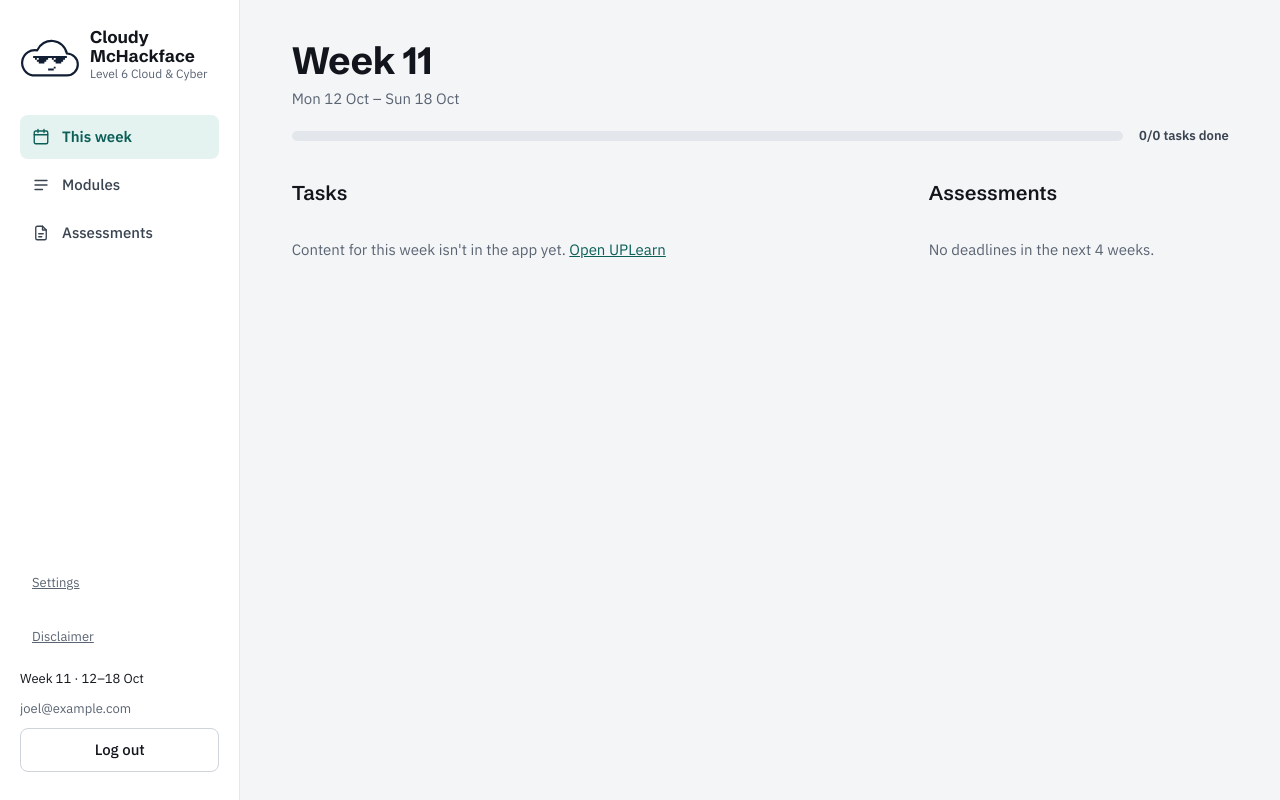
Test case: DisclaimerPage › can be re-read from the sidebar after accepting
This screenshot has width=1280, height=800.
What coordinates should you click on to do the following:
click the link "Disclaimer"
I would click on:
 (63, 637)
Its box is [32,628,94,645].
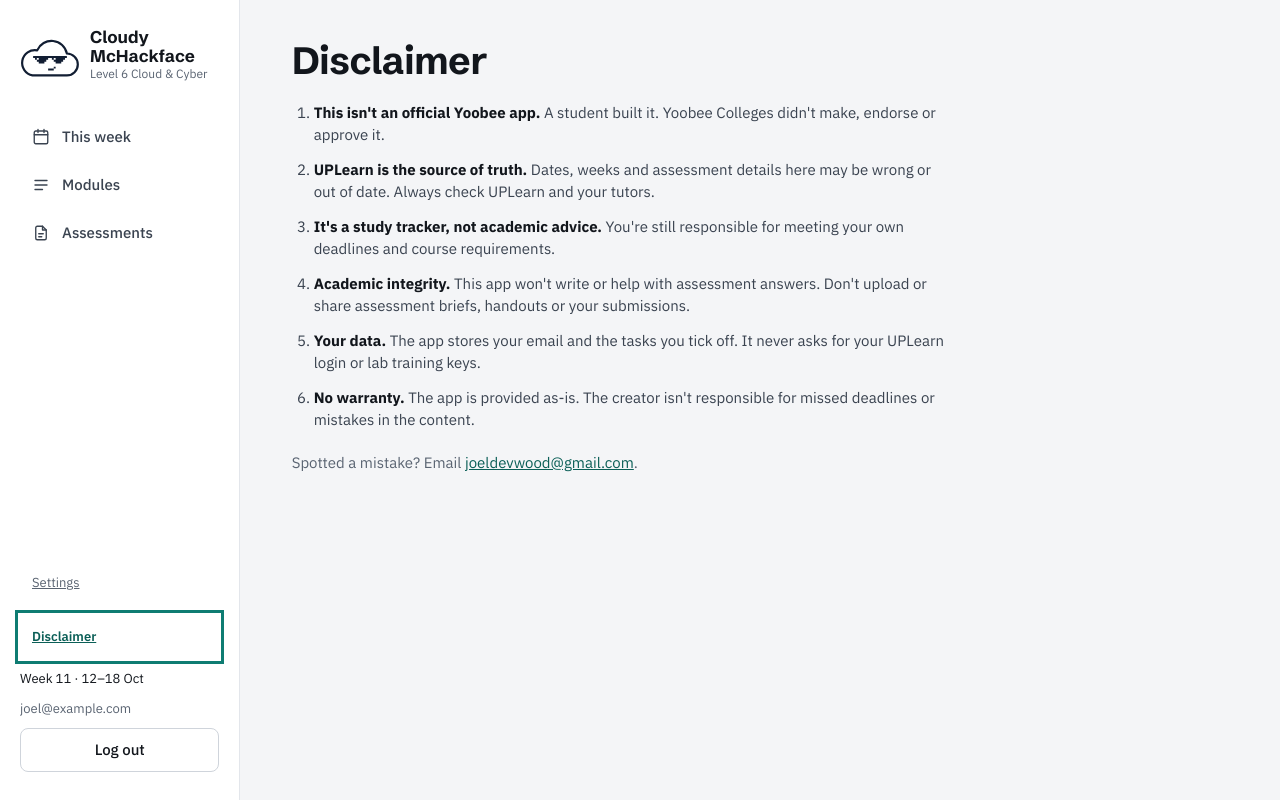
expect the heading "Disclaimer" is shown: met, box [292,37,487,84]
expect the text "UPLearn is the source of truth." is shown: met, box [314,160,527,179]
